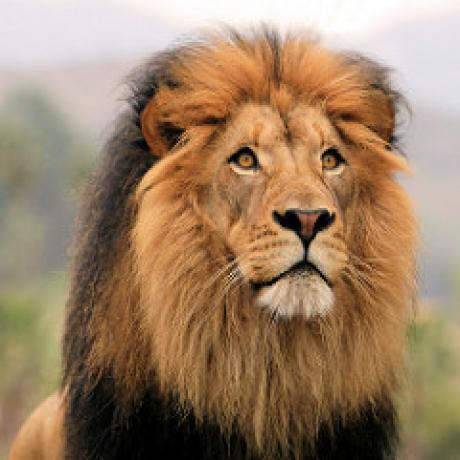Lion: (8, 17, 420, 460)
